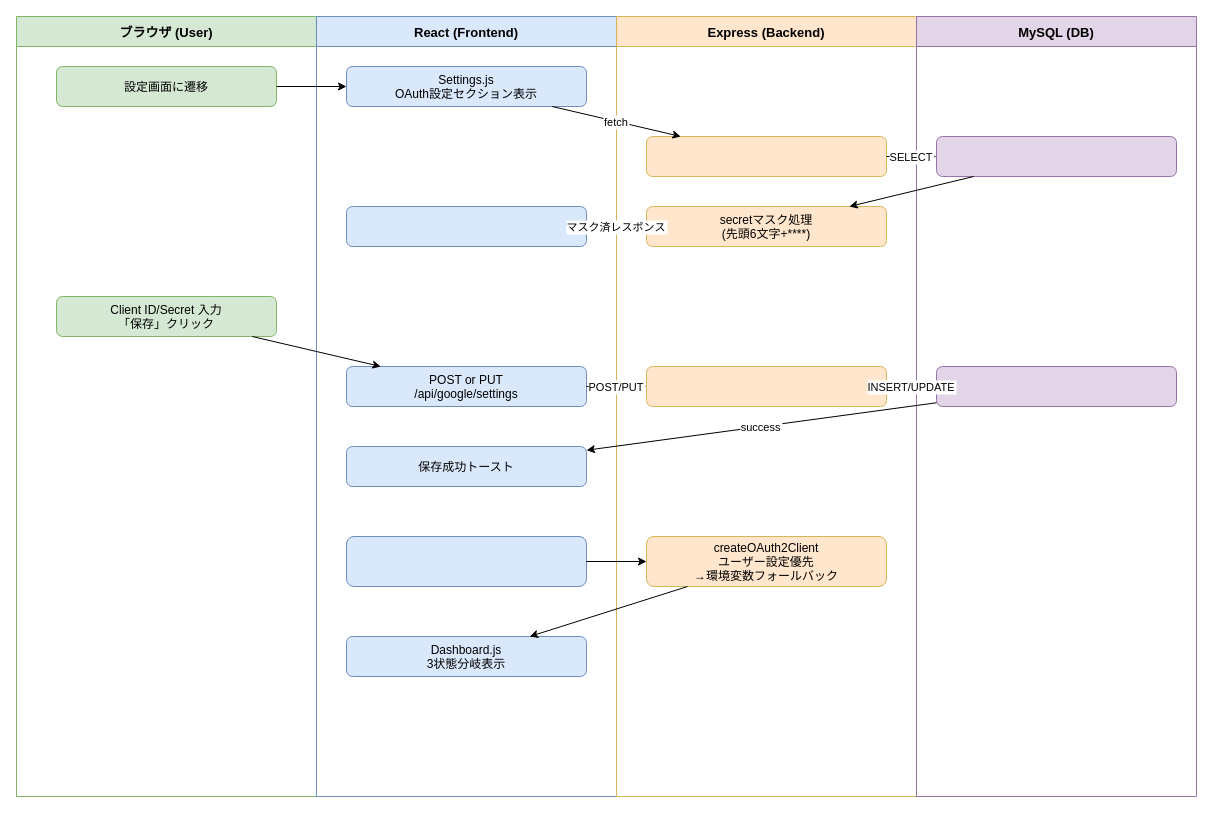
Some shapes in this 1213 by 813 pixel diagram are drawn without their labels. The centre of each missing label's shape, as x and y in pixels:
"GET /api/google/settings" belongs at (766,156).
"google_oauth_settings SELECT" belongs at (1056,156).
"google_oauth_settings UPSERT (UNIQUE user_id)" belongs at (1056,386).
"GoogleConnect.js 設定未登録時: 案内表示 登録済み: 接続ボタン表示" belongs at (466,561).
"バリデーション INSERT or UPDATE" belongs at (766,386).
"設定表示 (Client ID + マスク済Secret)" belongs at (466,226).
